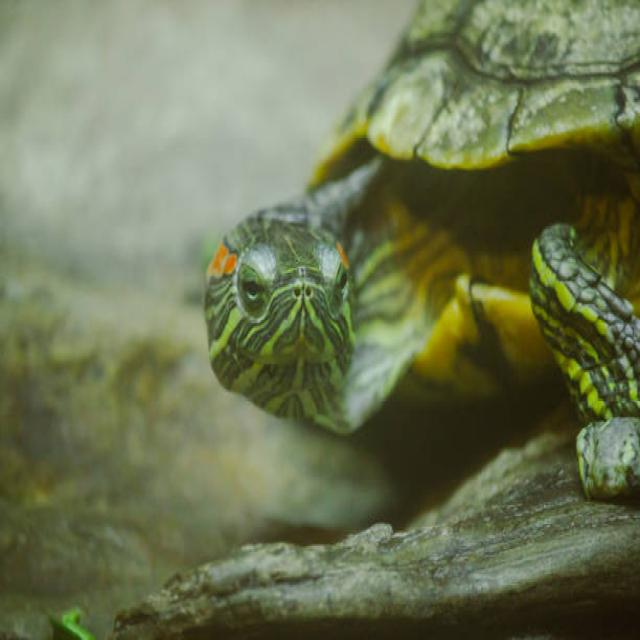terrapin: (163, 195, 499, 473), (351, 0, 640, 221), (521, 224, 640, 533)
